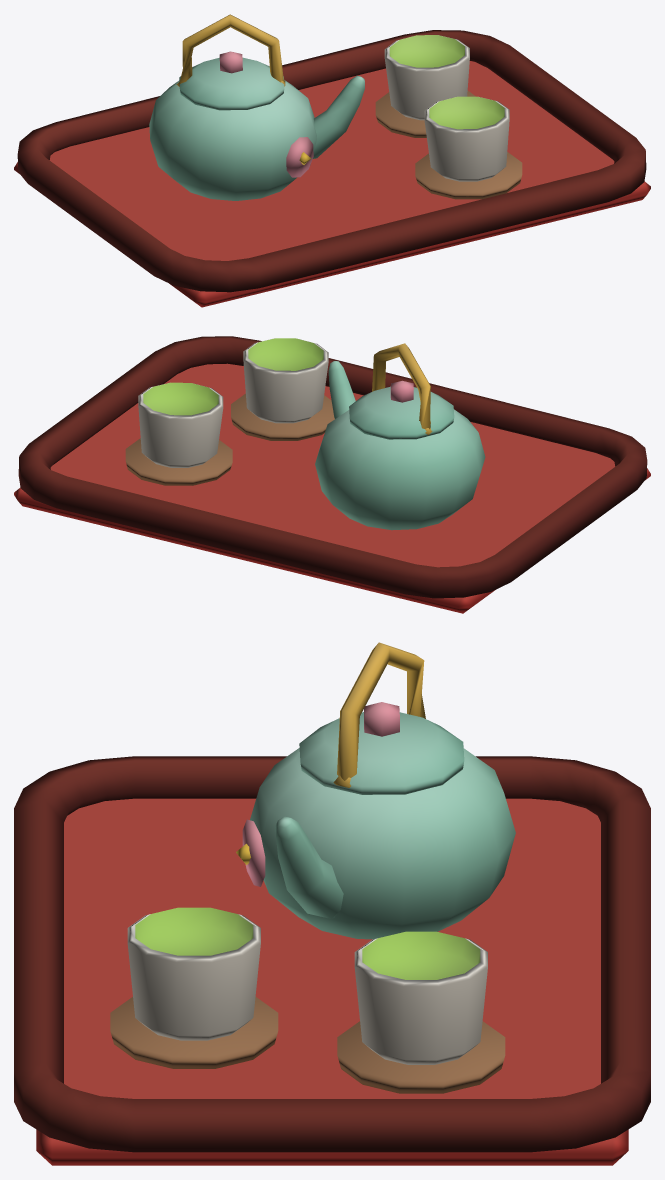
File: furn-teaSet.glb
3 renders of one model, top to bottom at view 1: azimuth 30°, elevation 25°; view 2: azimuth 150°, elevation 25°; view 3: azimuth 270°, elevation 25°, orthographic. The views are drawn at different scales.
Parts seen in each view (by area): view 1: furn-teaSet; view 2: furn-teaSet; view 3: furn-teaSet.
Boxes of the visible parts, left/top/right/bottom form: furn-teaSet: left=14, top=14, right=650, bottom=307; furn-teaSet: left=14, top=336, right=650, bottom=613; furn-teaSet: left=14, top=642, right=650, bottom=1165.
Size of the model in its own units: 0.4431 by 0.1608 by 0.3227.
